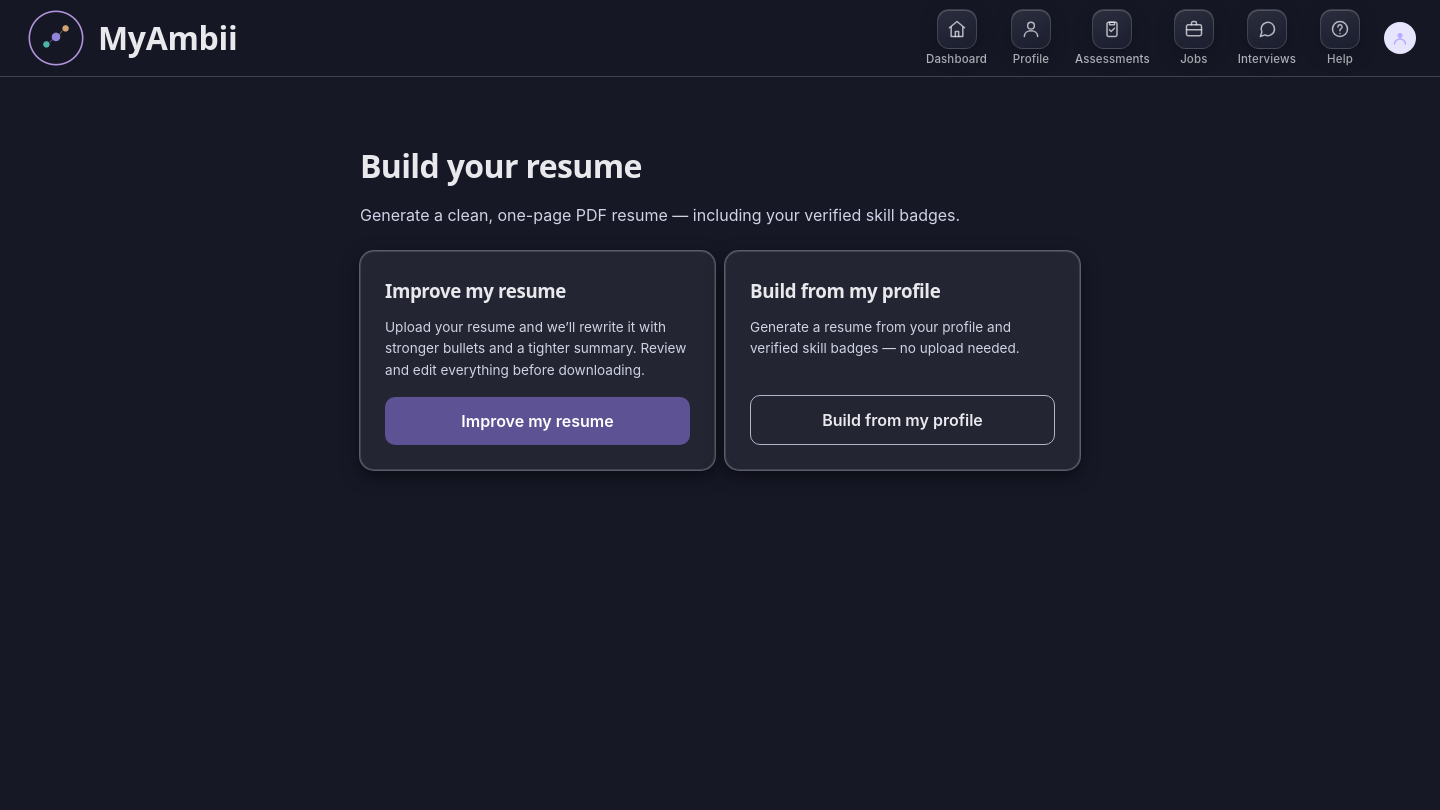
Test: Resume builder — portfolio skill selector › defaults to a non-empty selection for a candidate with a parsed portfolio
This screenshot has width=1440, height=810.
Click the button "Build from my profile": (902, 420) 750,395 -> 1055,445
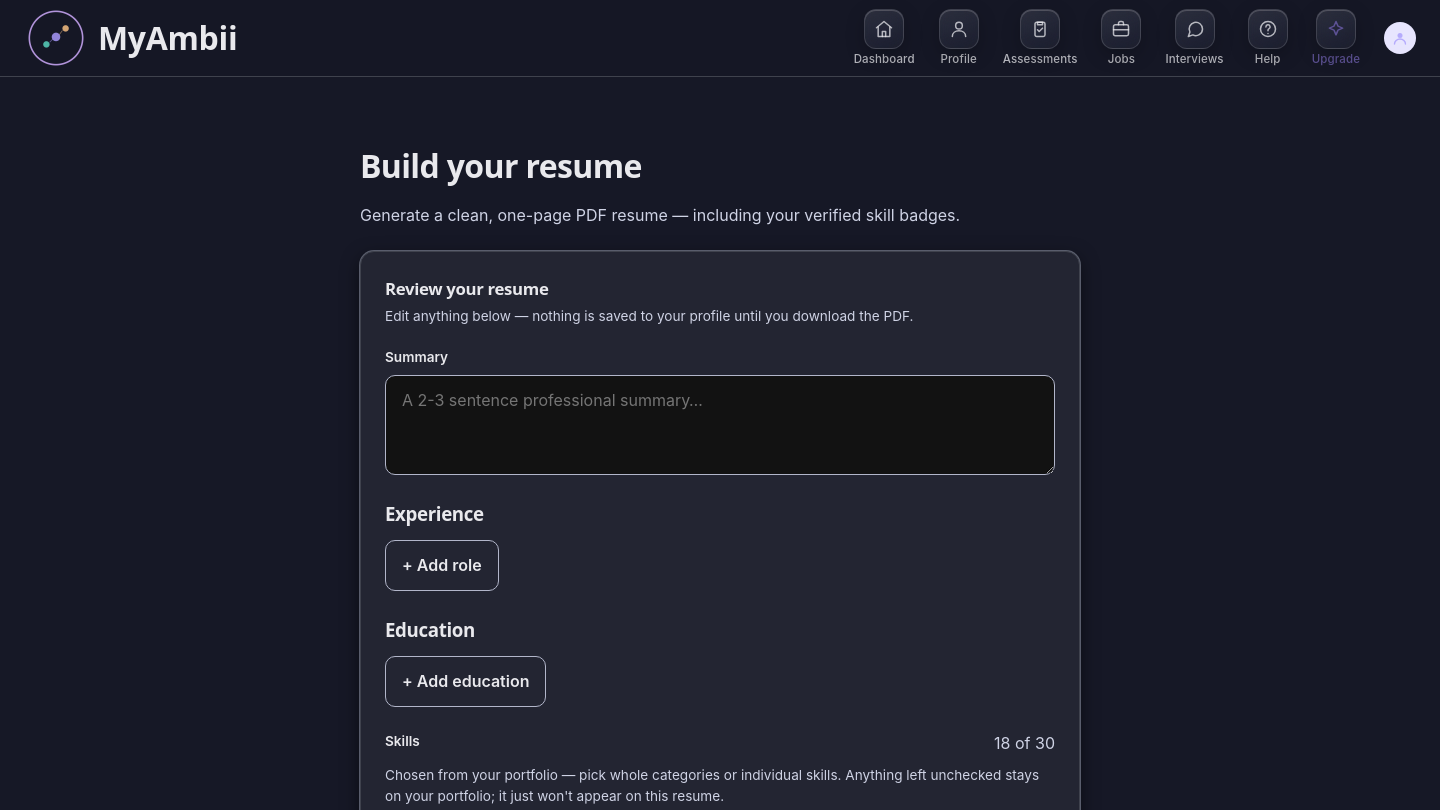
Check: the heading "Review your resume" is shown, box 385,277 -> 548,300
